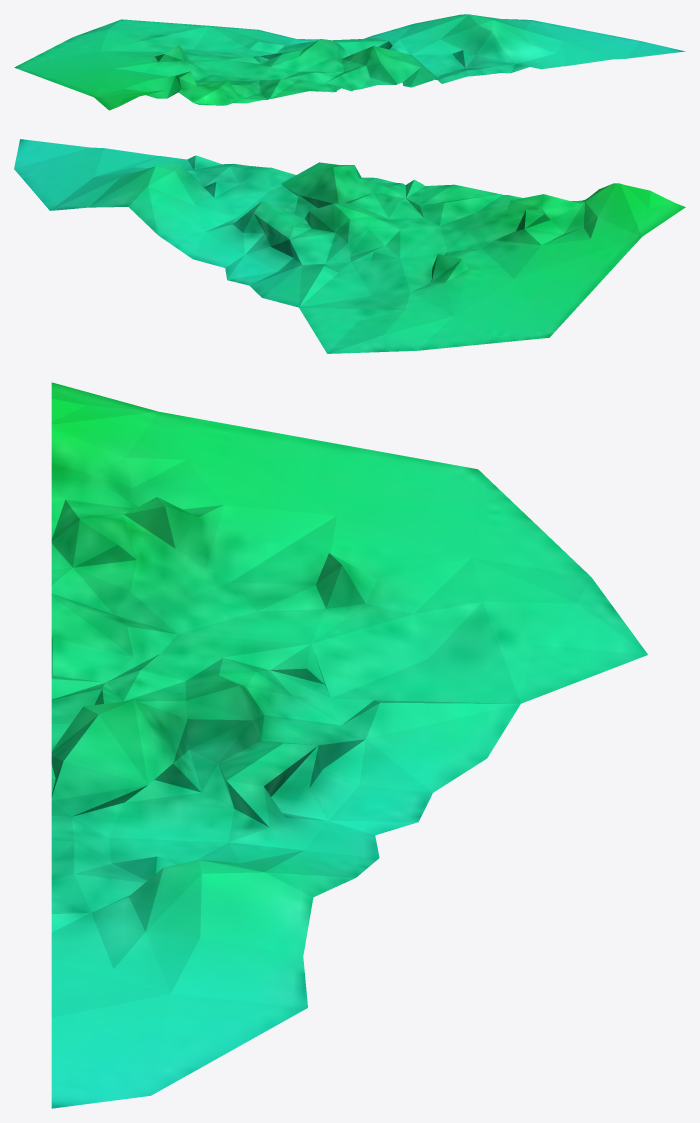
3 views of the same model, one above another, from view 1: azimuth 30°, elevation 25°; view 2: azimuth 150°, elevation 25°; view 3: azimuth 270°, elevation 25° (orthographic). The views are drawn at different scales.
Size of the model in its own units: 11.97 by 1.81 by 5.36.
Materials: 1 (1 with a texture image).
